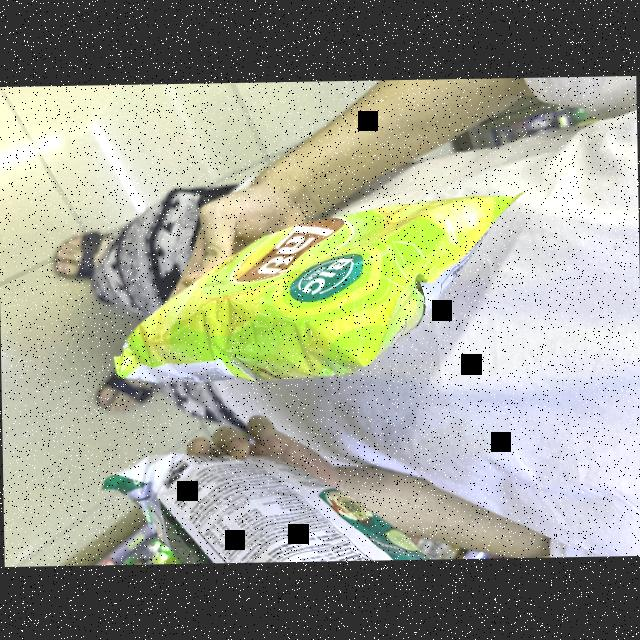snack_bag: (104, 178, 526, 384), (114, 431, 432, 564)
